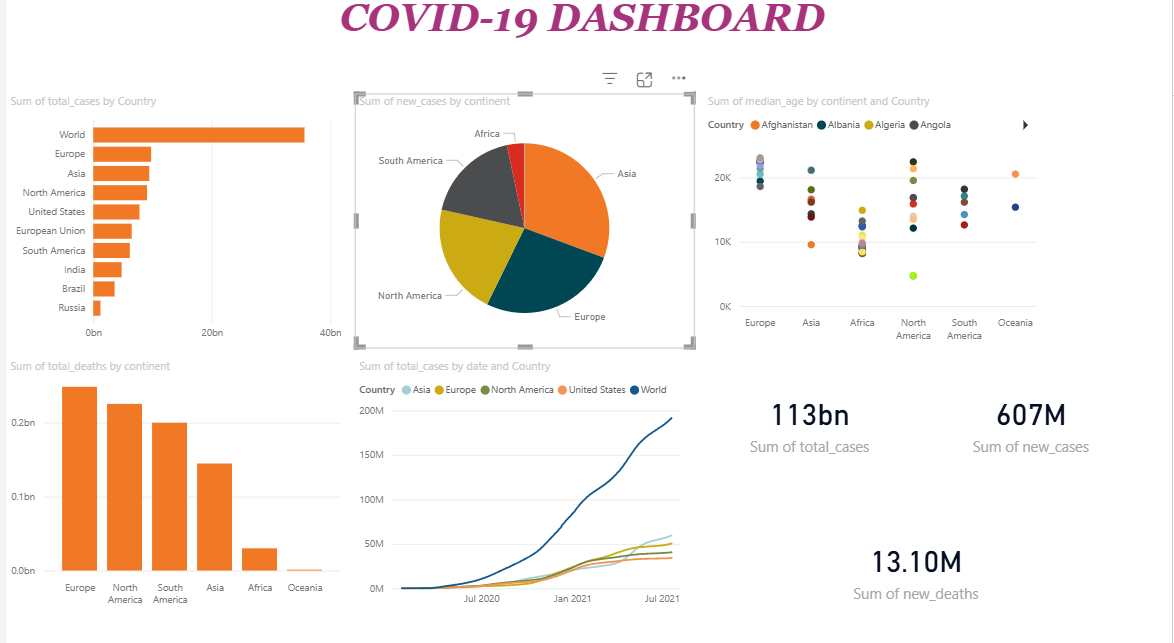

The page's visual inventory and layout, read from the dashboard file:
{"tool":"powerbi","page":{"name":"Page 1","canvas":[1280,720],"ordinal":0},"visuals":[{"type":"barChart","fields":{"Category":["Sheet1.Country"],"Y":["Sum(Sheet1.total_cases)"]},"box":[0,112.5,373.2,279.9],"z":0},{"type":"columnChart","fields":{"Category":["Sheet1.continent"],"Y":["Sum(Sheet1.total_deaths)"]},"box":[0,403,373,280],"z":1000},{"type":"pieChart","fields":{"Y":["Sum(Sheet1.new_cases)"],"Category":["Sheet1.continent"]},"box":[383,113,373,280],"z":2000},{"type":"lineChart","fields":{"Y":["Sum(Sheet1.total_cases)"],"Category":["Sheet1.date"],"Series":["Sheet1.Country"]},"box":[383,403,373,280],"z":3000},{"type":"lineChart","fields":{"Category":["Sheet1.continent"],"Y":["Sum(Sheet1.median_age)"],"Series":["Sheet1.Country"]},"box":[766,113,373,280],"z":4000},{"type":"card","fields":{"Values":["Sum(Sheet1.total_cases)"]},"box":[765.7,403.4,233.3,140],"z":5000},{"type":"card","fields":{"Values":["Sum(Sheet1.new_cases)"]},"box":[1008.6,403.4,233.3,140],"z":6000},{"type":"card","fields":{"Values":["Sum(Sheet1.new_deaths)"]},"box":[882.3,559.9,233.3,149.6],"z":7000},{"type":"textbox","box":[0,0,1265.2,96.1],"z":8000}]}

Visuals, with their boxes in screenshot pixels (x1, y1, x2, y2), scaled from the page's 1280x720 canvas onto the 1174x643 screenshot:
barChart - Sheet1.Country x Sum(Sheet1.total_cases): (0,100,342,350)
columnChart - Sheet1.continent x Sum(Sheet1.total_deaths): (0,360,342,610)
pieChart - Sum(Sheet1.new_cases) x Sheet1.continent: (351,101,693,351)
lineChart - Sum(Sheet1.total_cases) x Sheet1.date: (351,360,693,610)
lineChart - Sheet1.continent x Sum(Sheet1.median_age): (703,101,1045,351)
card - Sum(Sheet1.total_cases): (702,360,916,485)
card - Sum(Sheet1.new_cases): (925,360,1139,485)
card - Sum(Sheet1.new_deaths): (809,500,1023,634)
textbox: (0,0,1160,86)
